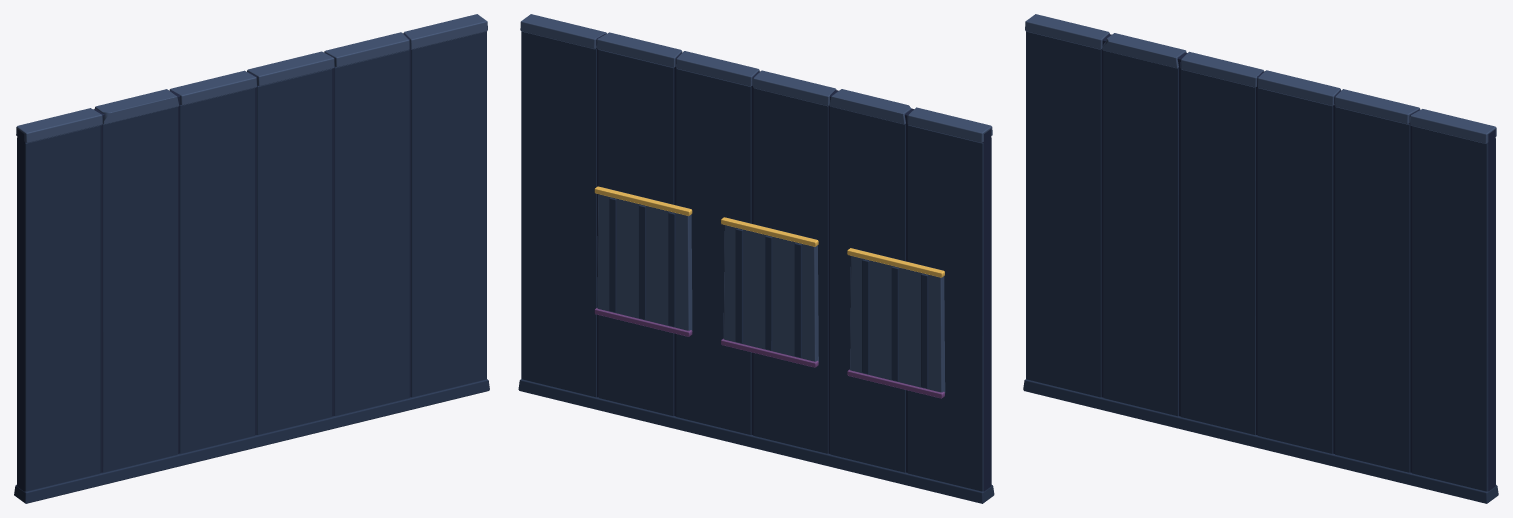
File: wall_southwall1.glb
3 renders of one model, left to right at view 1: azimuth 30°, elevation 25°; view 2: azimuth 150°, elevation 25°; view 3: azimuth 330°, elevation 25°, orthographic.
Visible parts, largest first — view 1: wall_southwall1; view 2: wall_southwall1; view 3: wall_southwall1.
Boxes of the visible parts, bbox=[...] form: wall_southwall1: bbox=[14, 14, 489, 503]; wall_southwall1: bbox=[518, 14, 994, 503]; wall_southwall1: bbox=[1023, 14, 1498, 503].
Bounding box in the file's own units: 11.04 × 8.41 × 0.6391.
